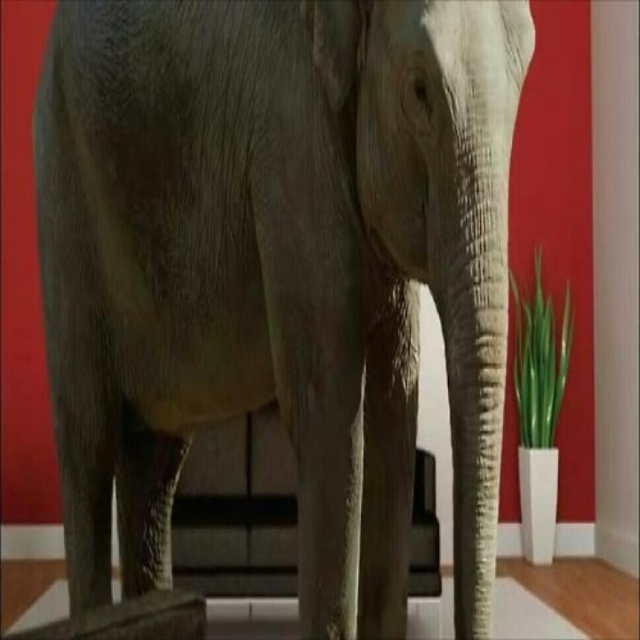Elephant: (32, 0, 539, 638)
